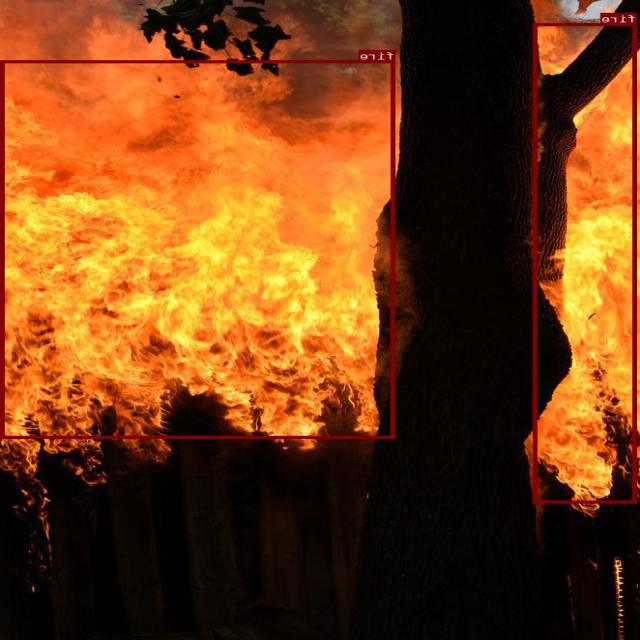fire: (2, 60, 396, 438), (534, 23, 638, 502)
